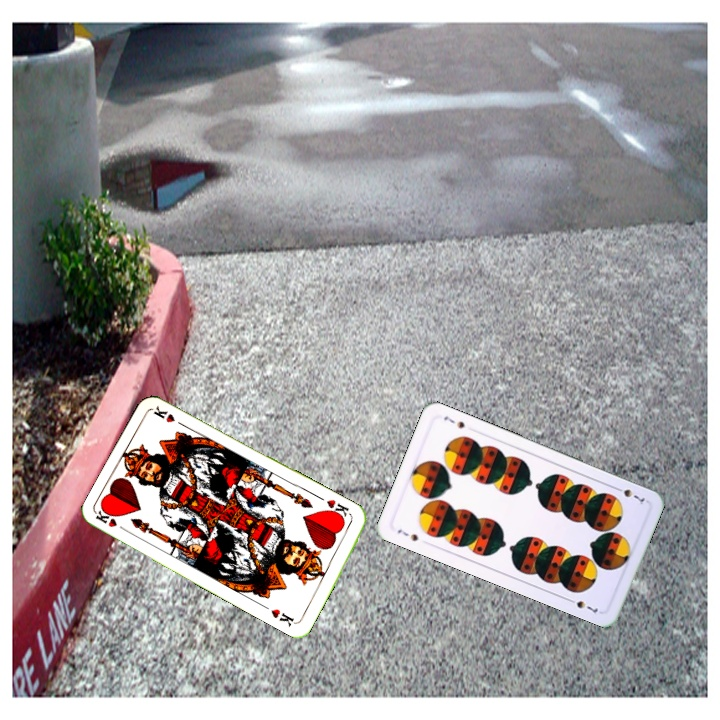HK: (92, 505, 131, 535), (322, 495, 355, 522)
S7: (610, 483, 648, 507), (393, 525, 421, 544)
